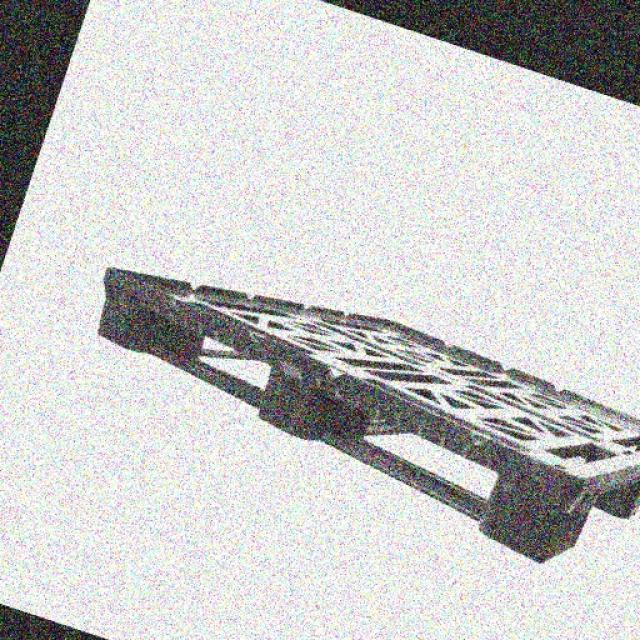non-igps: (89, 261, 640, 568)
